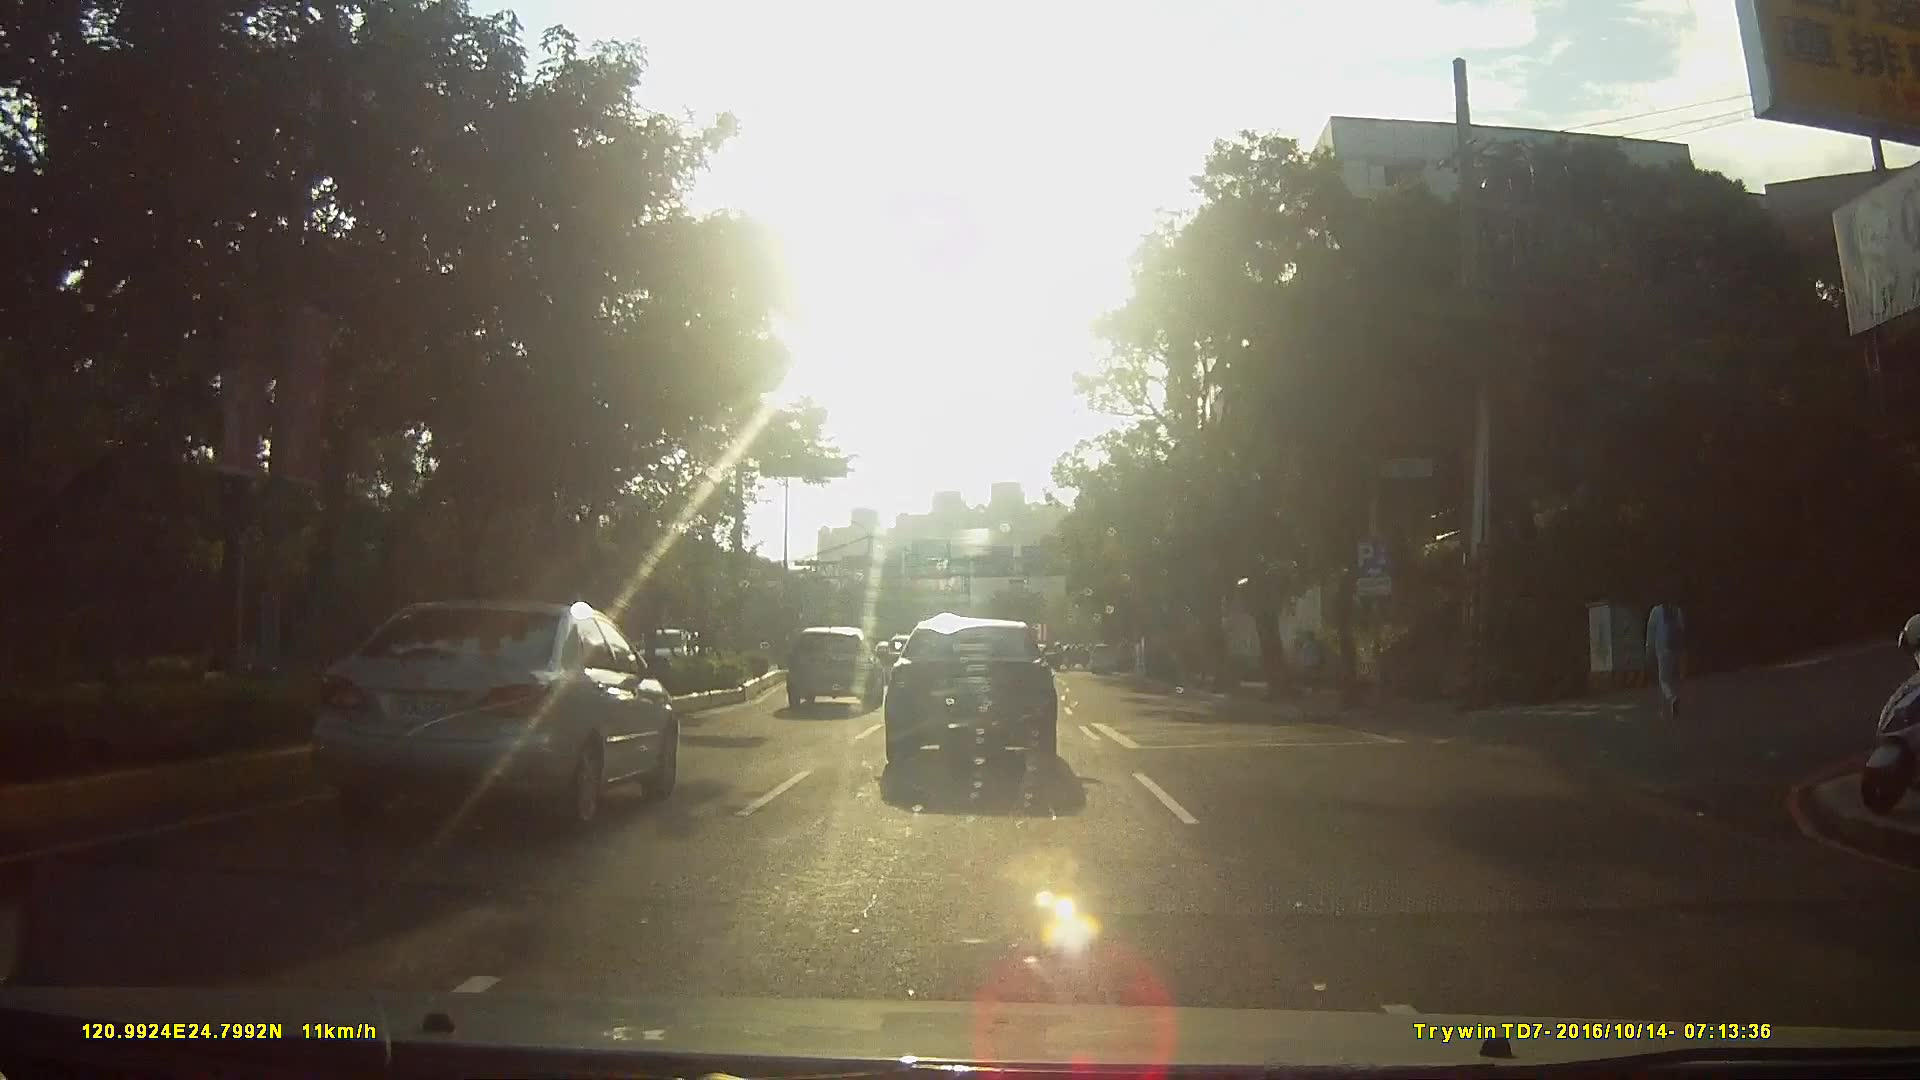pedestrian: (1643, 583, 1696, 722)
vehicle: (299, 596, 679, 828), (875, 616, 1074, 784), (782, 626, 883, 712), (1082, 642, 1116, 676)
